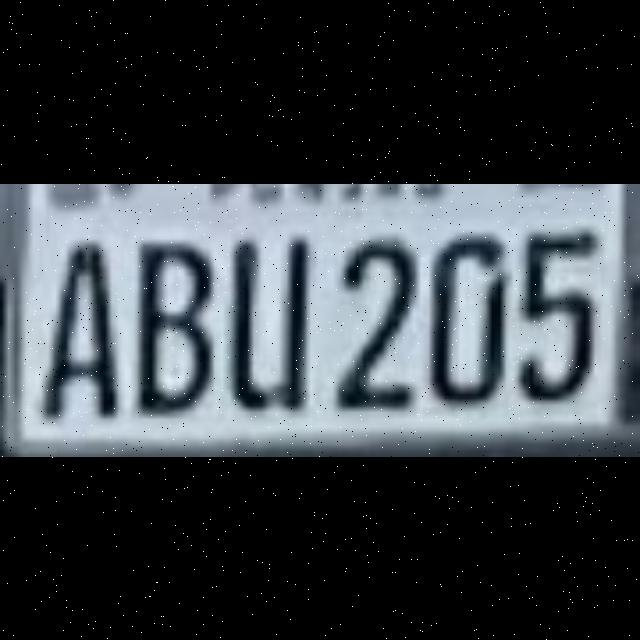0: (414, 226, 510, 414)
2: (320, 226, 416, 414)
5: (508, 226, 604, 414)
A: (36, 226, 132, 414)
B: (130, 226, 226, 414)
U: (224, 226, 320, 414)
